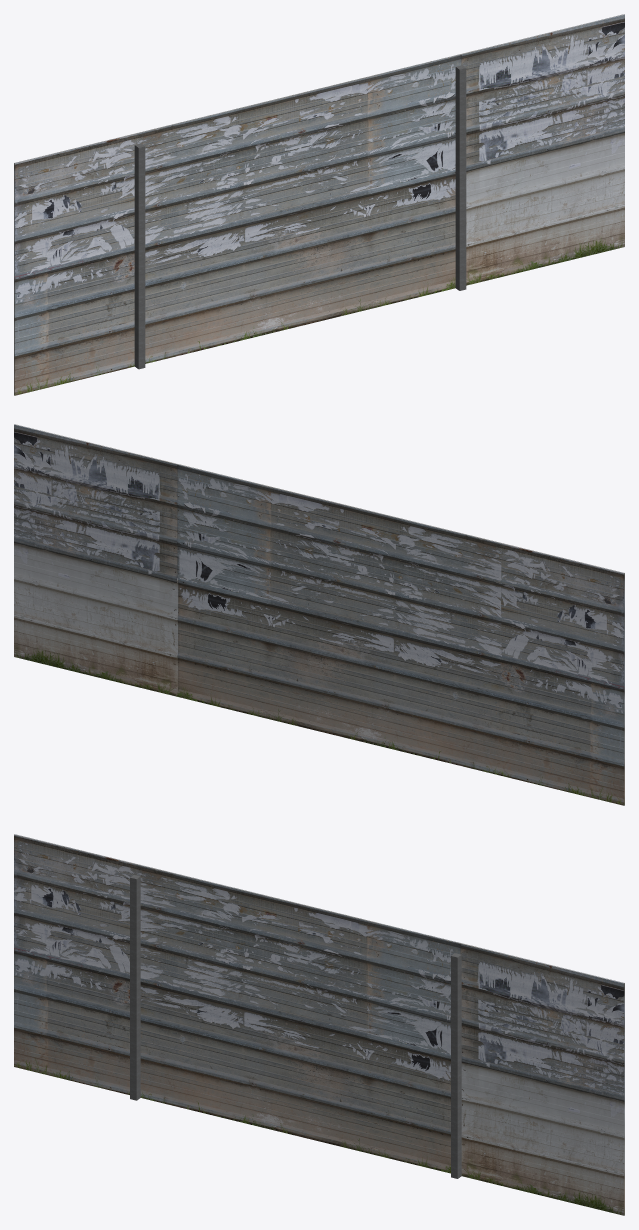
The model's file is MetallFence08.FBX.
The picture shows the model from 3 angles, top to bottom: view 1: azimuth 30°, elevation 25°; view 2: azimuth 150°, elevation 25°; view 3: azimuth 330°, elevation 25°; orthographic projection.
Visible parts, largest first — view 1: MetallFence08, MetalFenceMetal03b; view 2: MetallFence08; view 3: MetallFence08, MetalFenceMetal03b.
Boxes of the visible parts, box(x1,y1,x2,y2) form: MetallFence08: box(14, 14, 624, 395); MetalFenceMetal03b: box(134, 65, 466, 369); MetallFence08: box(14, 424, 624, 805); MetallFence08: box(14, 834, 624, 1215); MetalFenceMetal03b: box(130, 875, 461, 1178).
Bounding box in the file's own units: 484 × 176 × 6.49.
